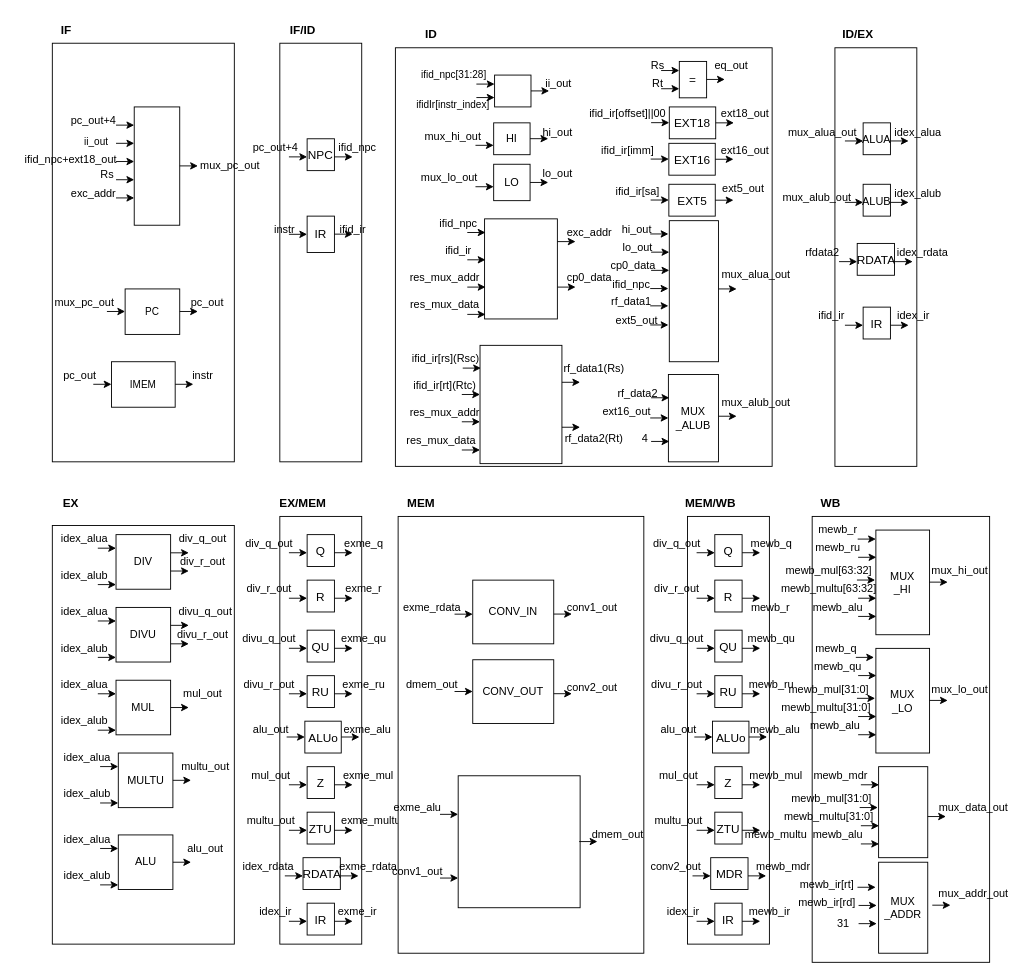
This 1034x978 diagram has some shape labels left out. The shapes that lost their labels are listed below. From the top down, each one's box as (x1, y1, x2, y2) in pixels, then its label:
(494, 74, 531, 107): II
(133, 106, 180, 225): MUX_PC
(484, 218, 557, 319): CP0
(668, 220, 718, 362): MUX _ALUA
(479, 344, 562, 464): RegFile
(878, 766, 928, 858): MUX _DATA
(457, 775, 580, 908): DMEM
